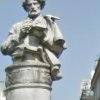Statue: (5, 2, 68, 72)
